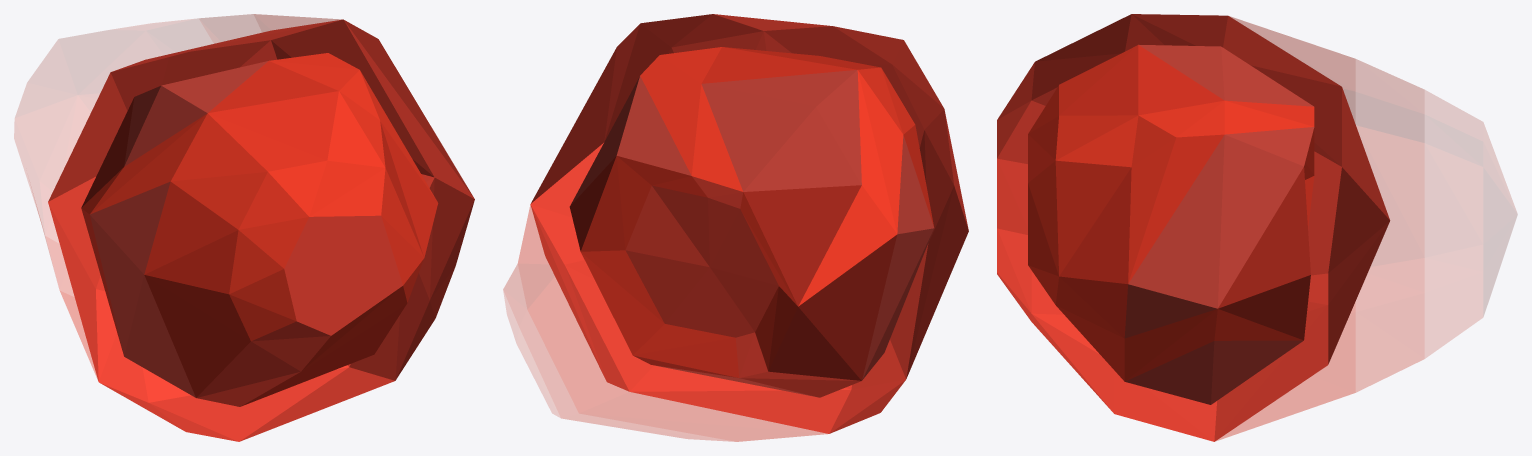
File: range_projectile.glb
3 renders of one model, left to right at view 1: azimuth 30°, elevation 25°; view 2: azimuth 150°, elevation 25°; view 3: azimuth 270°, elevation 25°, orthographic. The views are drawn at different scales.
Size of the model in its own units: 121 by 108 by 151.
Materials: 2 (2 with a texture image).
